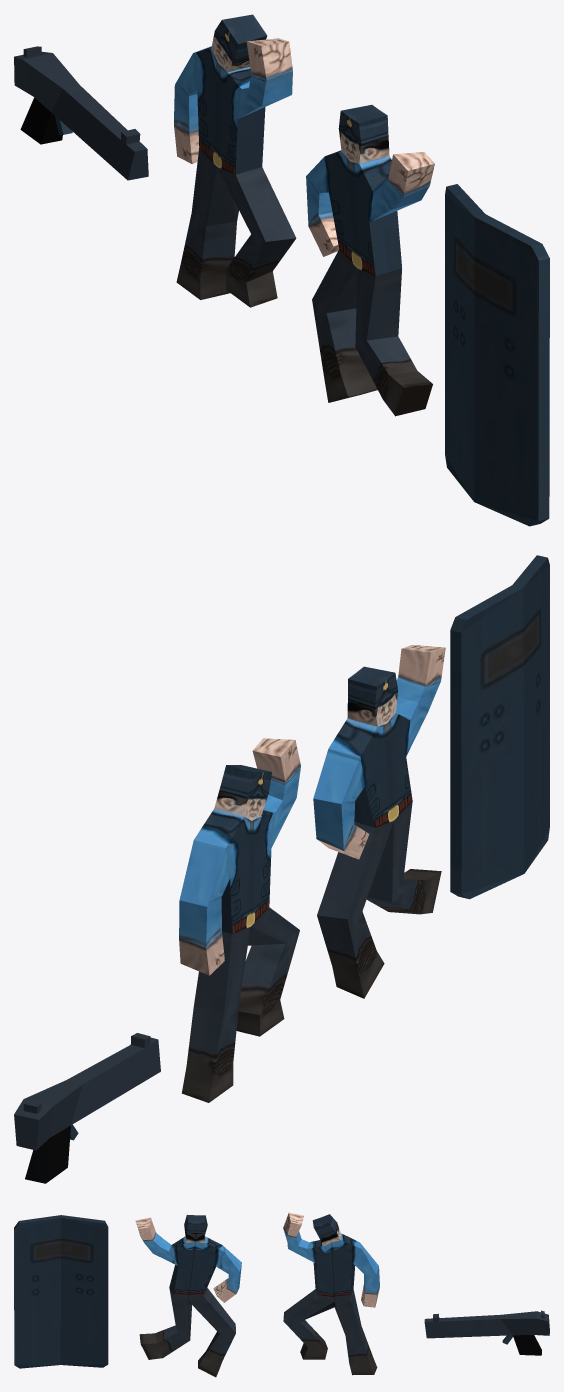
File: GarbageEnemyGunShield_4items.fbx
3 views of the same model, one above another, from view 1: azimuth 30°, elevation 25°; view 2: azimuth 150°, elevation 25°; view 3: azimuth 270°, elevation 25° (orthographic). The views are drawn at different scales.
Parts seen in each view (by area): view 1: Shield1, CopShield2, CopShield1, Pistol1; view 2: Shield1, CopShield1, CopShield2, Pistol1; view 3: Shield1, CopShield1, CopShield2, Pistol1.
Boxes of the visible parts, box(x1,y1,x2,y2) form: Shield1: box(445, 184, 549, 526); CopShield2: box(306, 104, 434, 416); CopShield1: box(174, 14, 296, 307); Pistol1: box(14, 46, 148, 180); Shield1: box(450, 555, 549, 899); CopShield1: box(179, 738, 300, 1102); CopShield2: box(313, 645, 445, 998); Pistol1: box(14, 1033, 160, 1183); Shield1: box(14, 1215, 108, 1368); CopShield1: box(283, 1212, 379, 1375); CopShield2: box(135, 1214, 241, 1377); Pistol1: box(424, 1310, 549, 1355).
Size of what is drawn, in the model's own units: 1.93 by 14.63 by 44.67.
